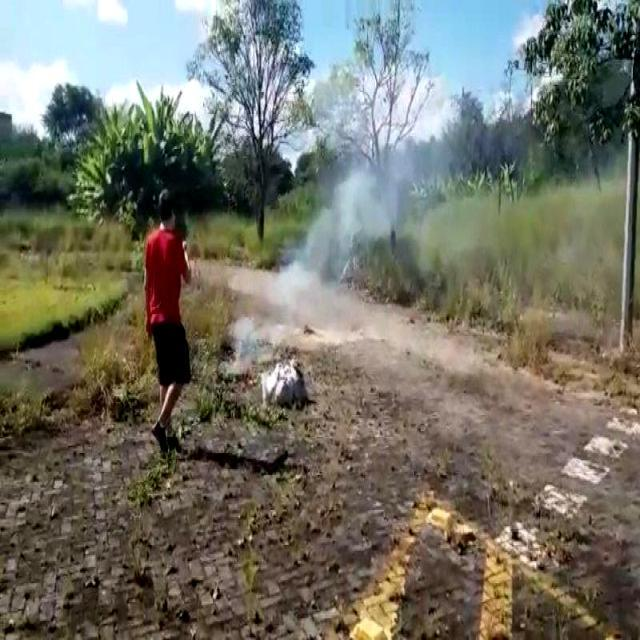Smoke: (255, 124, 423, 356)
